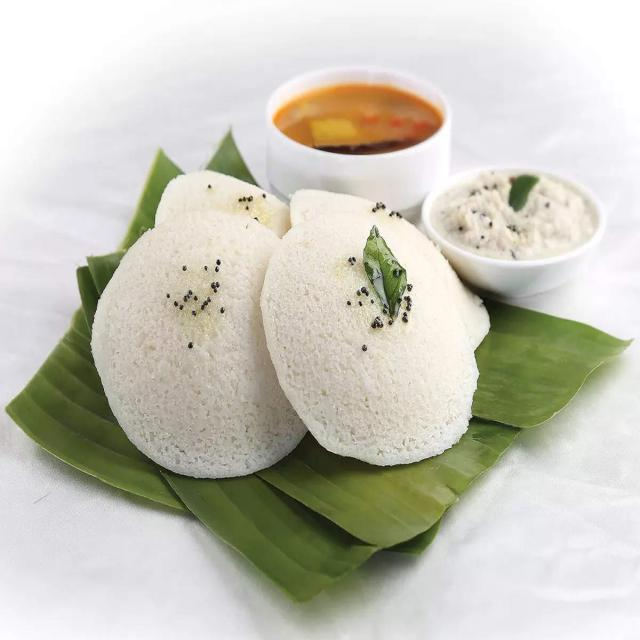IDLI: (267, 203, 487, 475), (94, 219, 307, 480)
